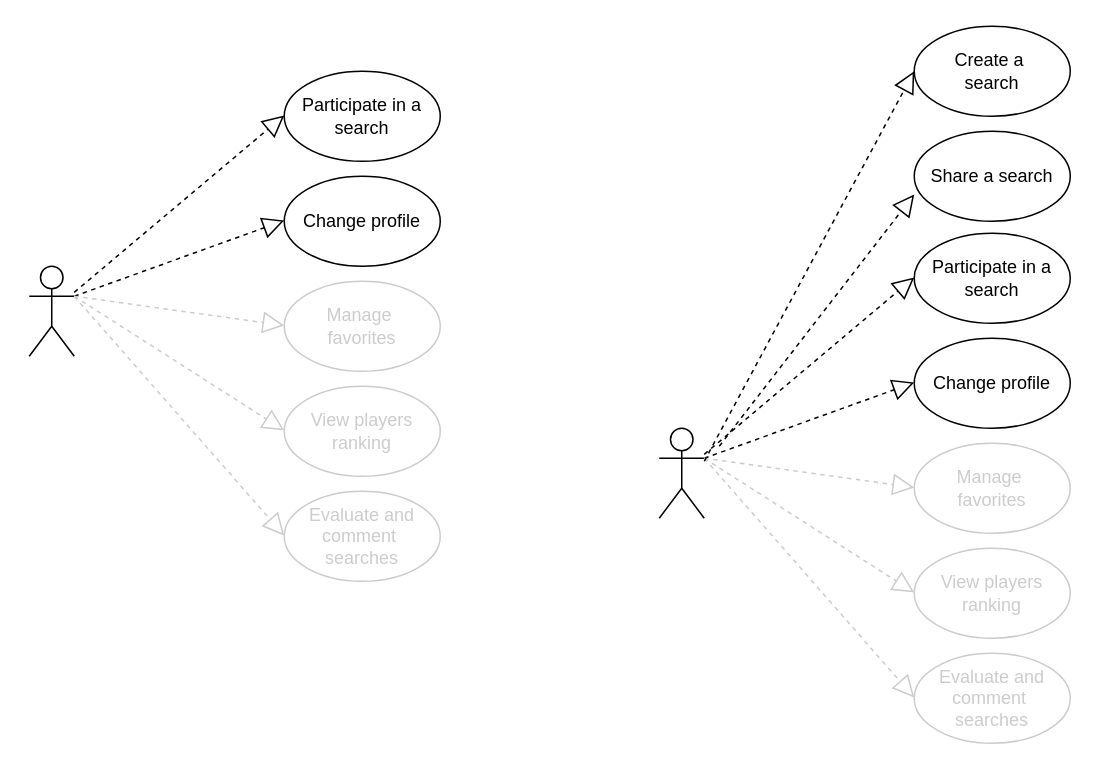
Image size: 1097x770. Some labels were removed from this diagram. The centre of each missing label's shape, as x and y in pixels:
"Organizer" belongs at [681,472].
"Player" belongs at [51,310].
